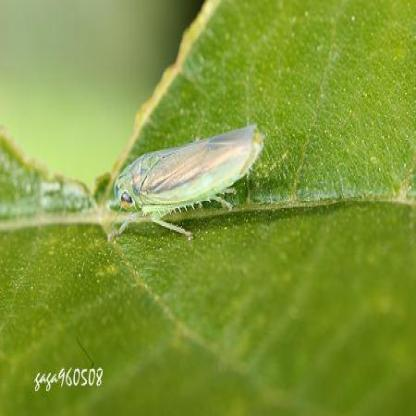green-leafhopper: (107, 125, 260, 245)
